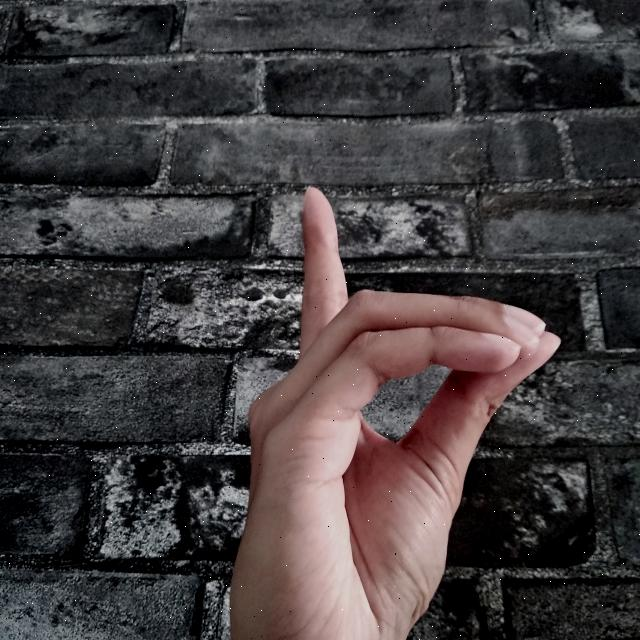D: (225, 182, 563, 640)
